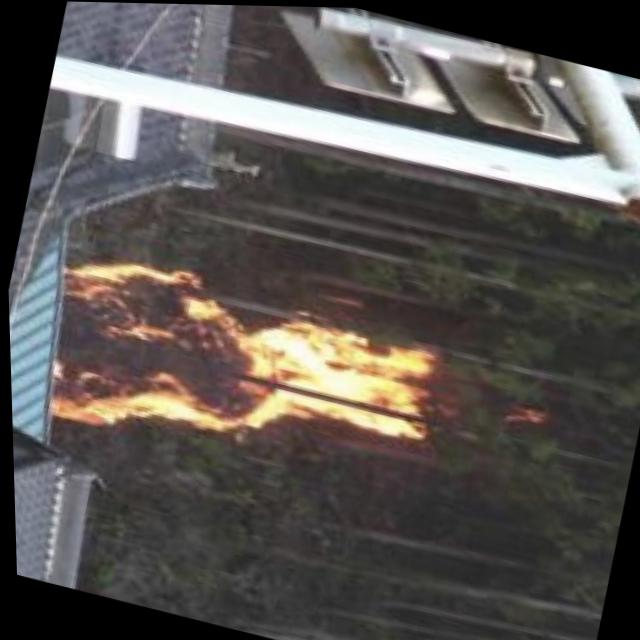Fire: (26, 227, 457, 506)
